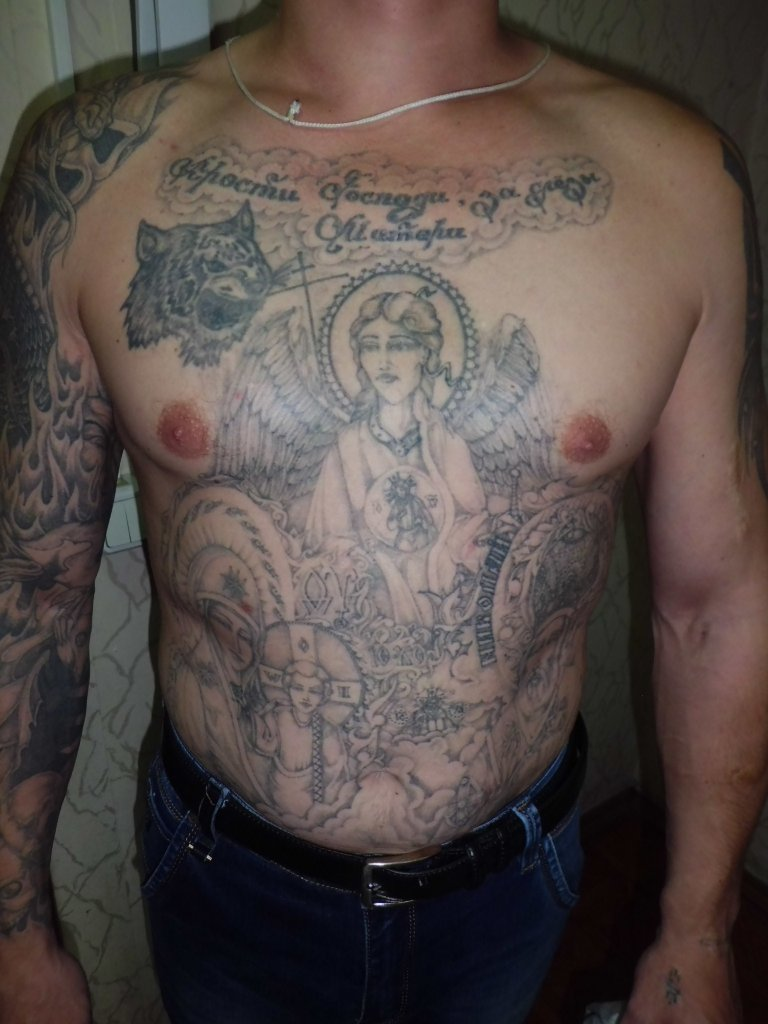tatu2_bogorodica: (156, 481, 391, 849)
tatu5_tigr: (119, 211, 284, 376)
